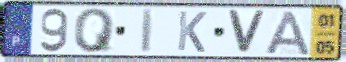9: (39, 7, 70, 54)
A: (264, 9, 313, 56)
I: (139, 8, 157, 55)
K: (175, 10, 209, 55)
Q: (73, 7, 118, 54)
V: (225, 9, 268, 56)
